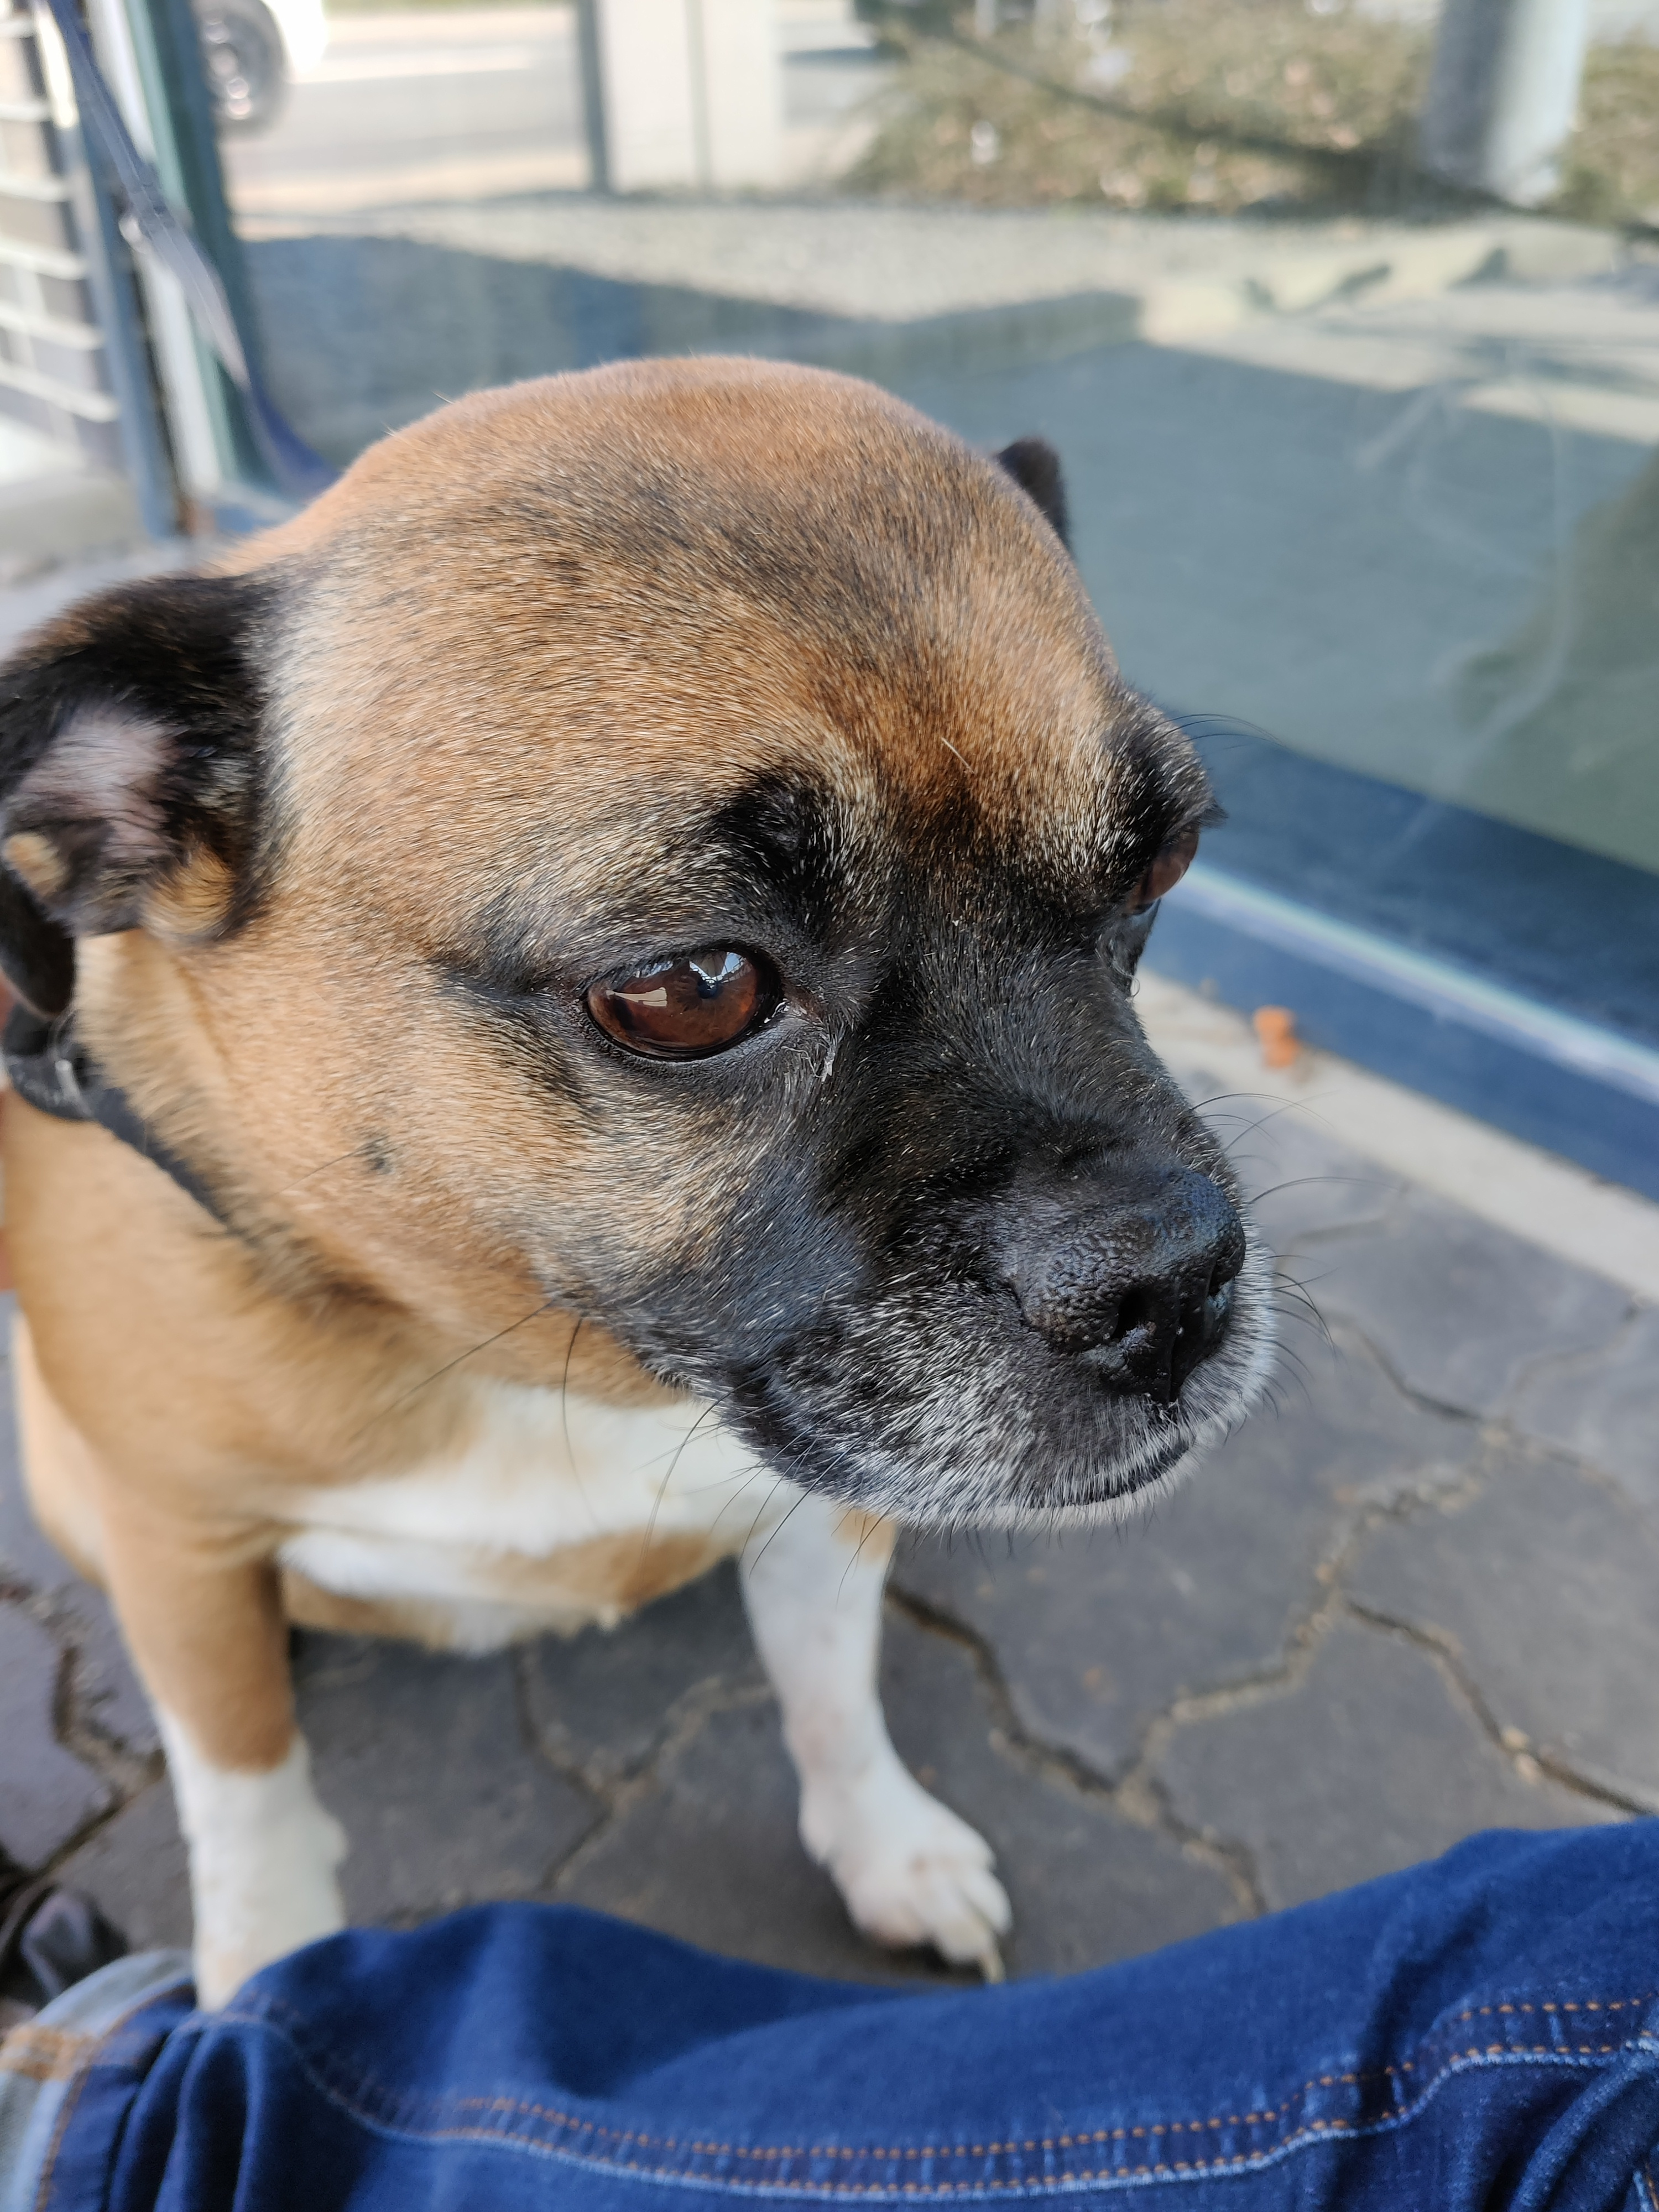Dog: (0, 331, 1303, 2033)
